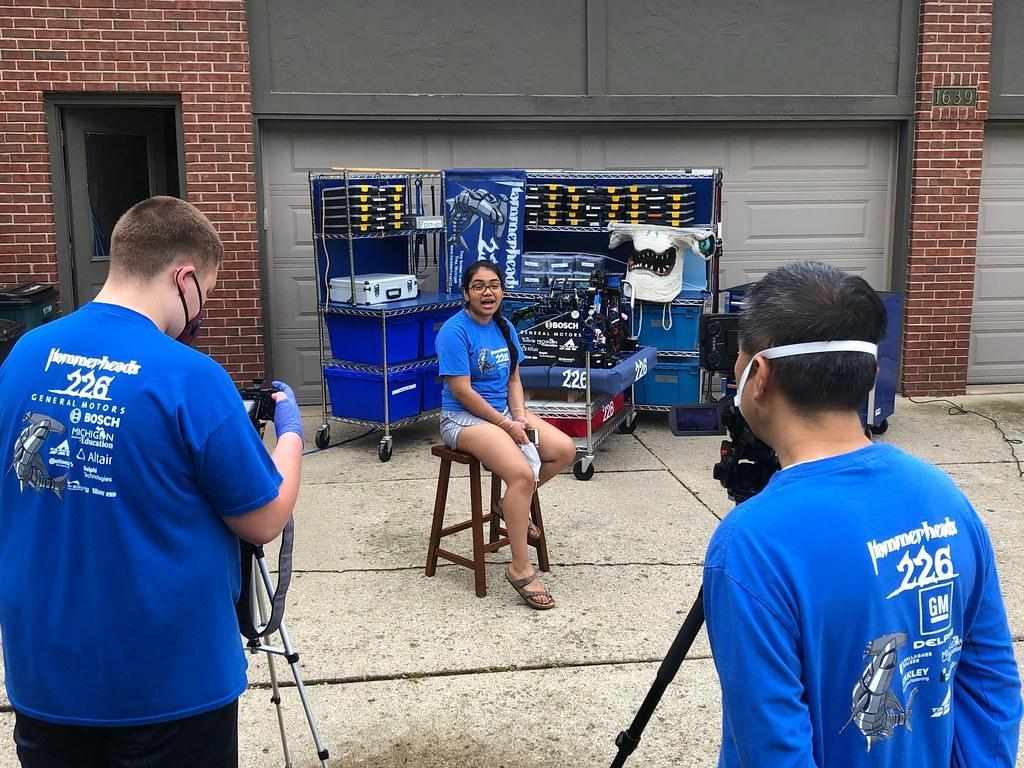robot: (497, 265, 667, 392)
